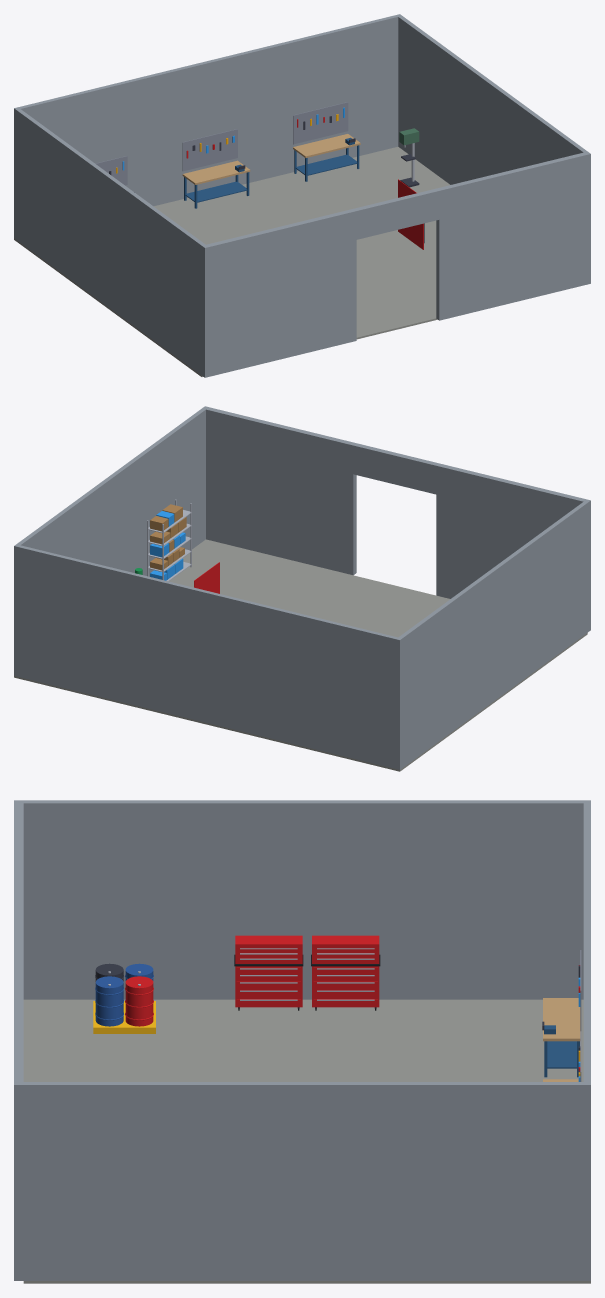
Rendered from ind-004.glb.
The picture shows the model from 3 angles, top to bottom: view 1: azimuth 30°, elevation 25°; view 2: azimuth 150°, elevation 25°; view 3: azimuth 270°, elevation 25°; orthographic projection. The views are drawn at different scales.
Visible parts, largest first — view 1: hangar_cladding, plant_floor, locker_grey, machine_blue, oak, accent_red; view 2: hangar_cladding, plant_floor, cardboard, steel, plastic_blue, accent_red; view 3: hangar_cladding, plant_floor, accent_red, steel, drum_blue, oak, machine_blue, safety_yellow.
Boxes of the visible parts, left/top/right/bottom form: hangar_cladding: left=14, top=14, right=590, bottom=377; plant_floor: left=14, top=147, right=449, bottom=376; locker_grey: left=95, top=102, right=348, bottom=185; machine_blue: left=184, top=137, right=359, bottom=208; oak: left=182, top=134, right=360, bottom=184; accent_red: left=186, top=117, right=423, bottom=249; hangar_cladding: left=14, top=406, right=590, bottom=769; plant_floor: left=14, top=539, right=587, bottom=771; cardboard: left=150, top=504, right=186, bottom=570; steel: left=147, top=499, right=191, bottom=581; plastic_blue: left=150, top=511, right=185, bottom=580; accent_red: left=194, top=562, right=219, bottom=593; hangar_cladding: left=14, top=800, right=590, bottom=1280; plant_floor: left=23, top=999, right=590, bottom=1283; accent_red: left=125, top=935, right=580, bottom=1071; steel: left=108, top=948, right=374, bottom=1000; drum_blue: left=95, top=963, right=153, bottom=1026; oak: left=543, top=998, right=580, bottom=1081; machine_blue: left=544, top=1025, right=579, bottom=1077; safety_yellow: left=93, top=1001, right=155, bottom=1033.
Bounding box in the file's own units: 14 × 4.56 × 12.
